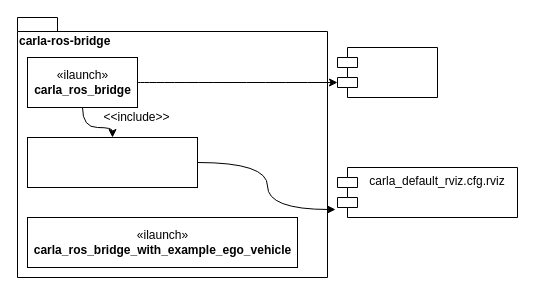
Image size: 535x295. Some labels were removed from this diagram. The centre of each missing label's shape, as x and y in pixels:
bridge.py: the point at 387,72
«ilaunch» carla_ros_bridge_with_rviz: the point at 112,162
